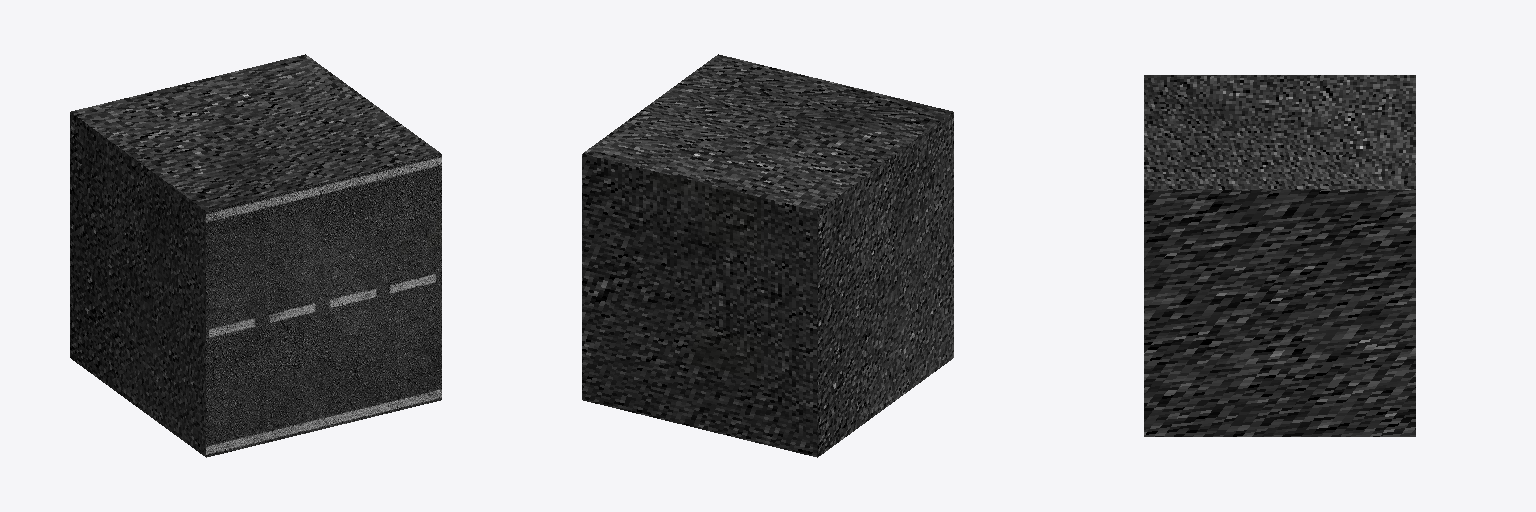
3 views of the same model, side by side, from view 1: azimuth 30°, elevation 25°; view 2: azimuth 150°, elevation 25°; view 3: azimuth 270°, elevation 25° (orthographic).
Parts seen in each view (by area): view 1: Cube; view 2: Cube; view 3: Cube.
Boxes of the visible parts, x1,y1,x2,y2 form: Cube: [70, 54, 441, 457]; Cube: [582, 54, 953, 457]; Cube: [1144, 75, 1415, 436].
Size of the model in its own units: 2 by 2 by 2.
Materials: 1 (1 with a texture image).